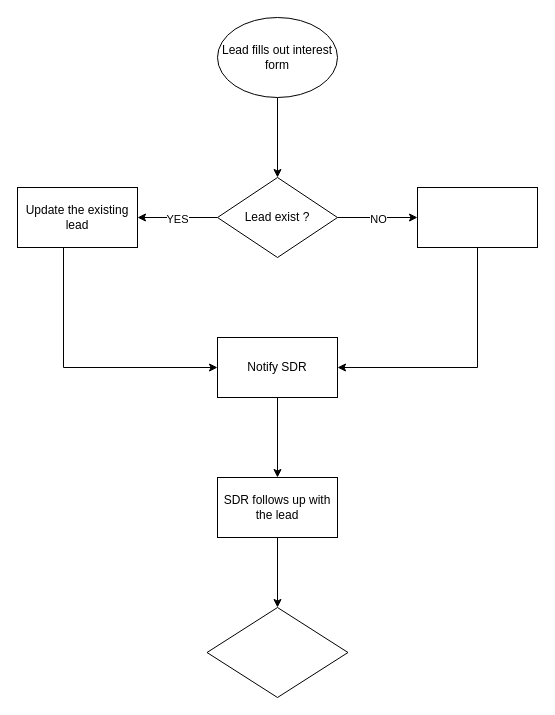
Some shapes in this 555 by 715 pixel diagram are drawn without their labels. The centre of each missing label's shape, as x and y in pixels:
create new lead: the point at 477,217
Lead qualified ?: the point at 277,652
